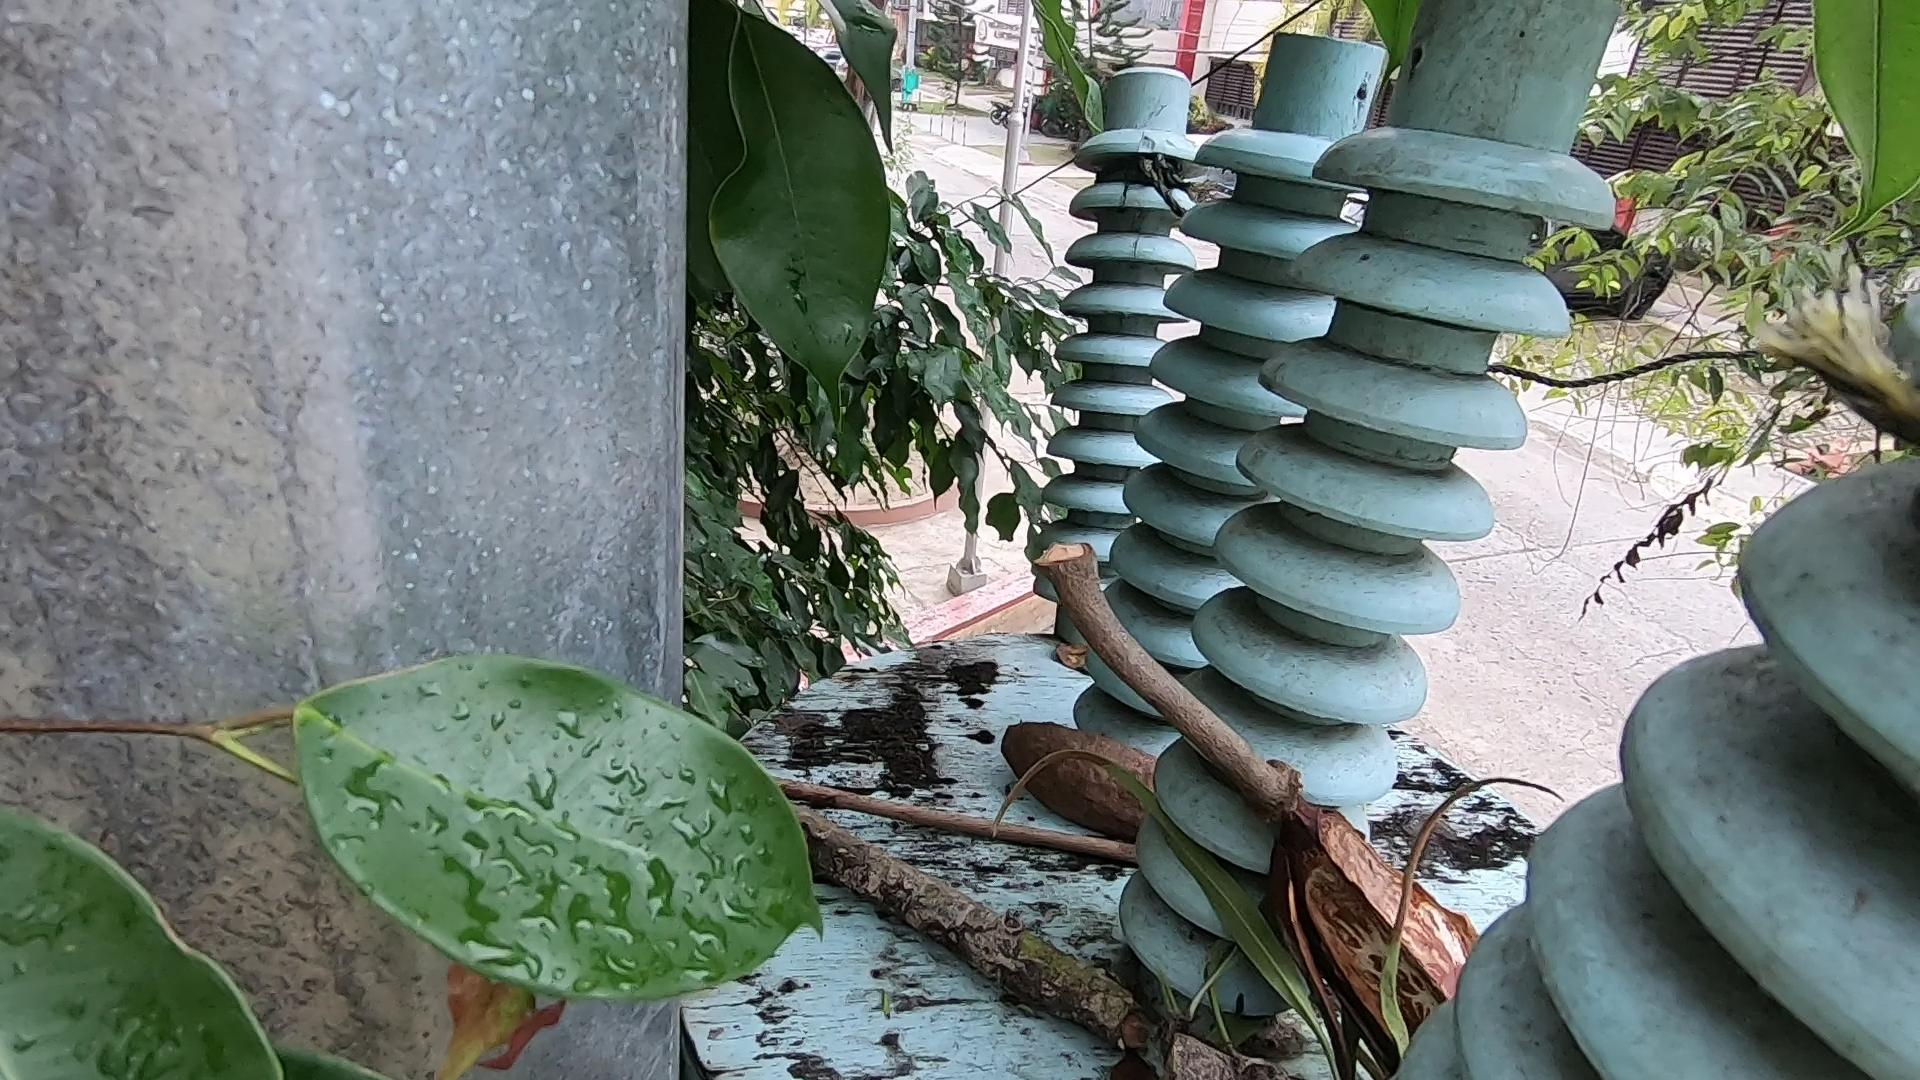branch with leaves: (796, 814, 1251, 1080)
leaf: (1095, 765, 1396, 1080)
mahogany fruit: (1254, 765, 1464, 1077), (972, 698, 1151, 891)
tree branch: (1064, 549, 1308, 833), (783, 794, 1147, 869)
